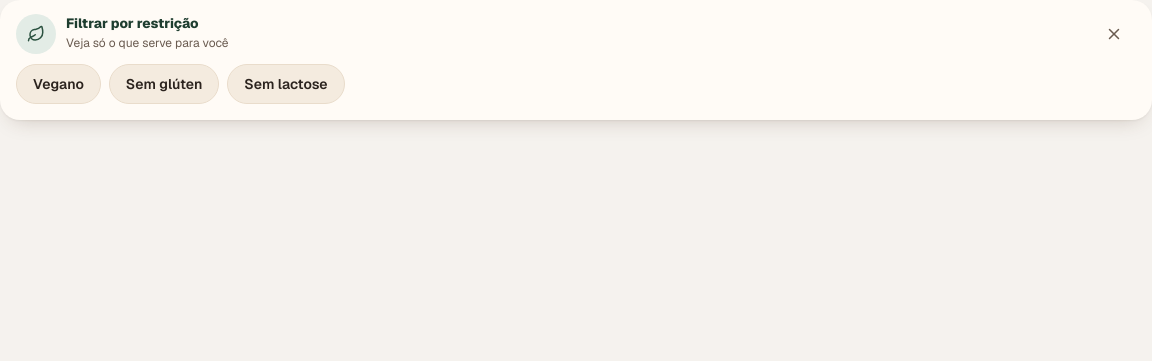
Test: filtrar › combina os filtros por E
This screenshot has width=1152, height=361.
Click the button "Sem glúten": (164, 84) [109,64,219,104]
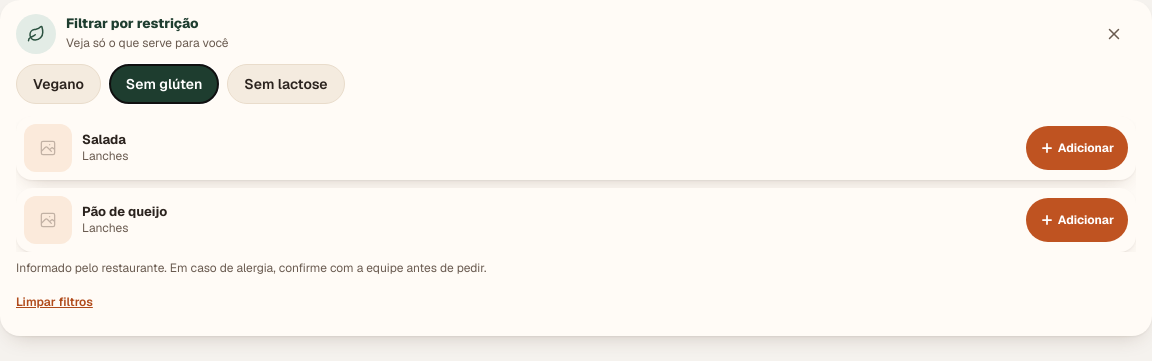
Click the button "Sem lactose": (286, 84) [227,64,344,104]
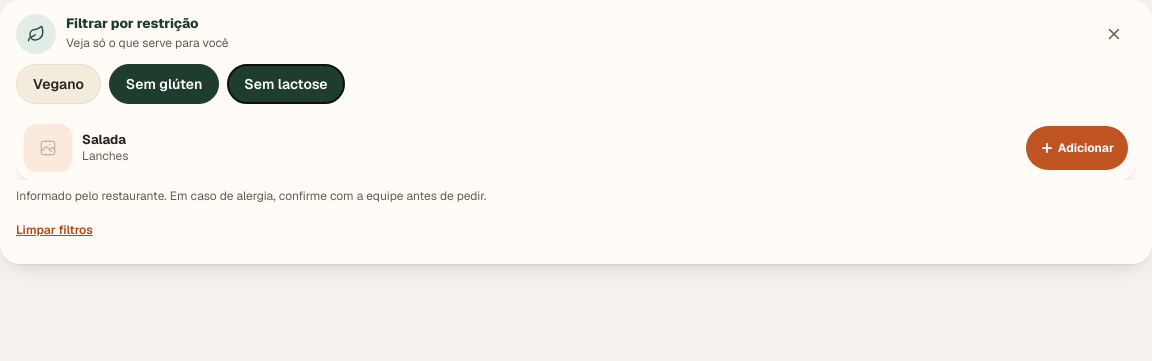
Now the text "Salada" is shown, box [82,131,126,148]
Now the text "Pão de queijo" is gone
